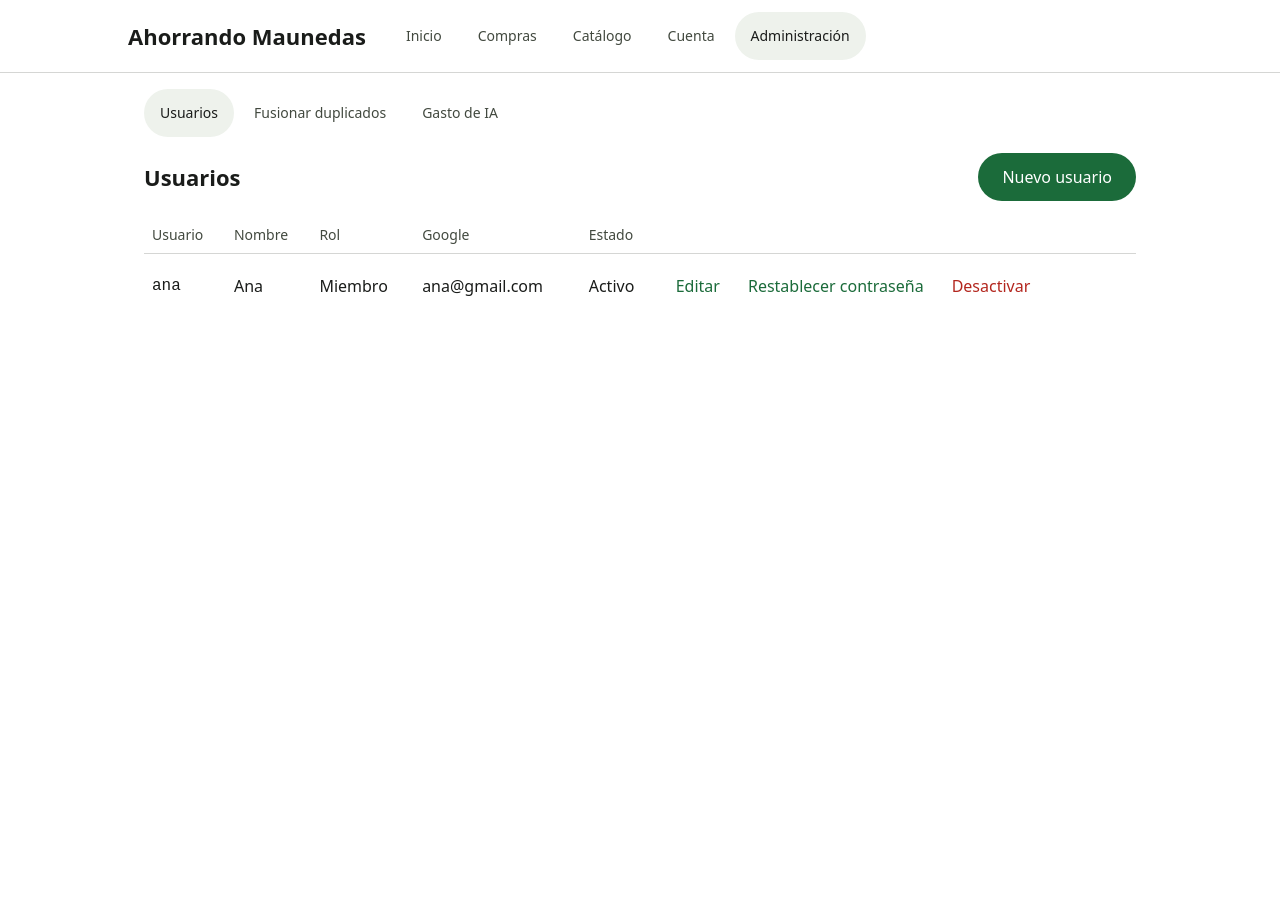
W-11 users › edits only what changed, and warns that removing Google closes that access
Click the button with aria-label "Editar a ana".
click(698, 286)  # box [664,262,732,310]
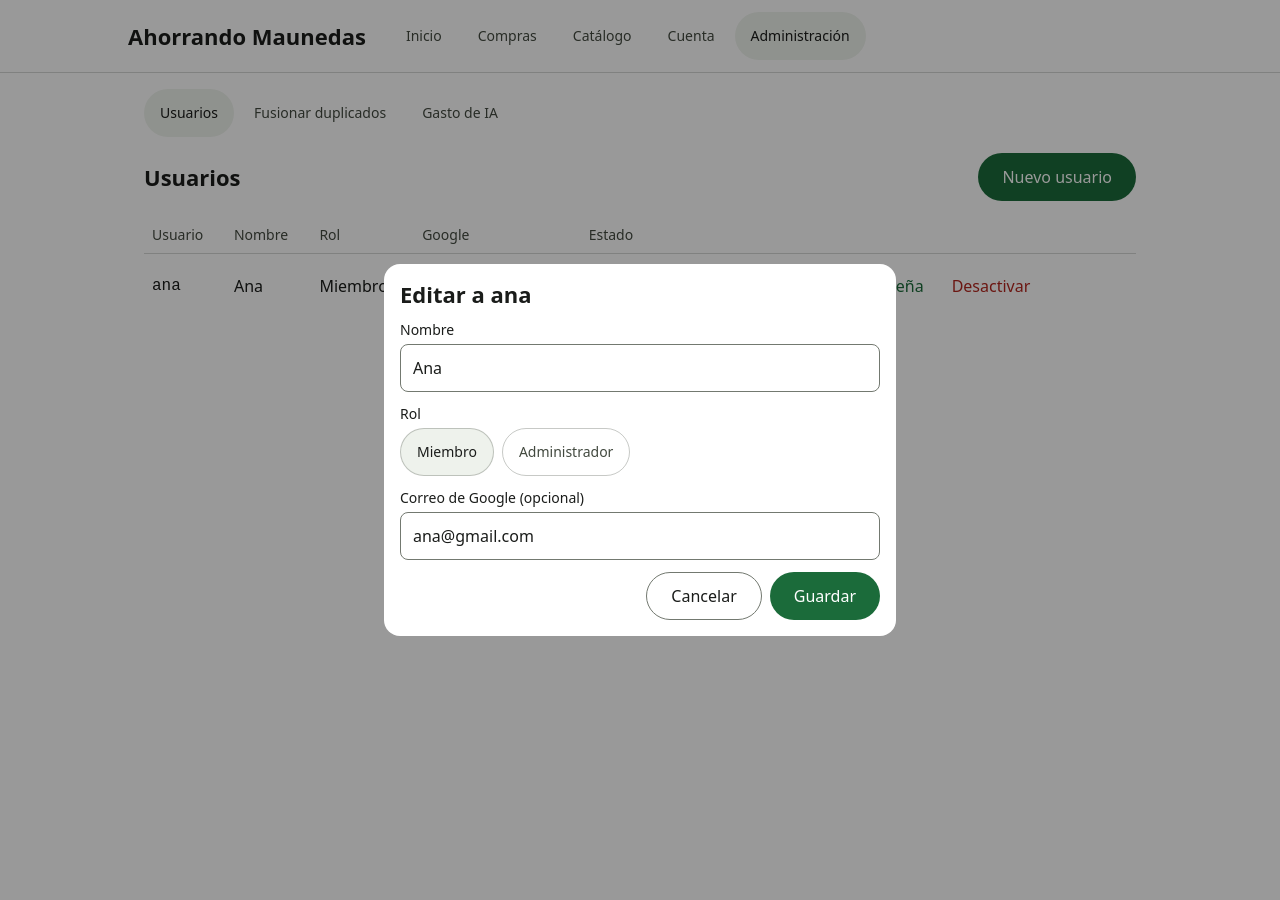
Click the button "Guardar".
click(825, 596)  # box [770,572,880,620]
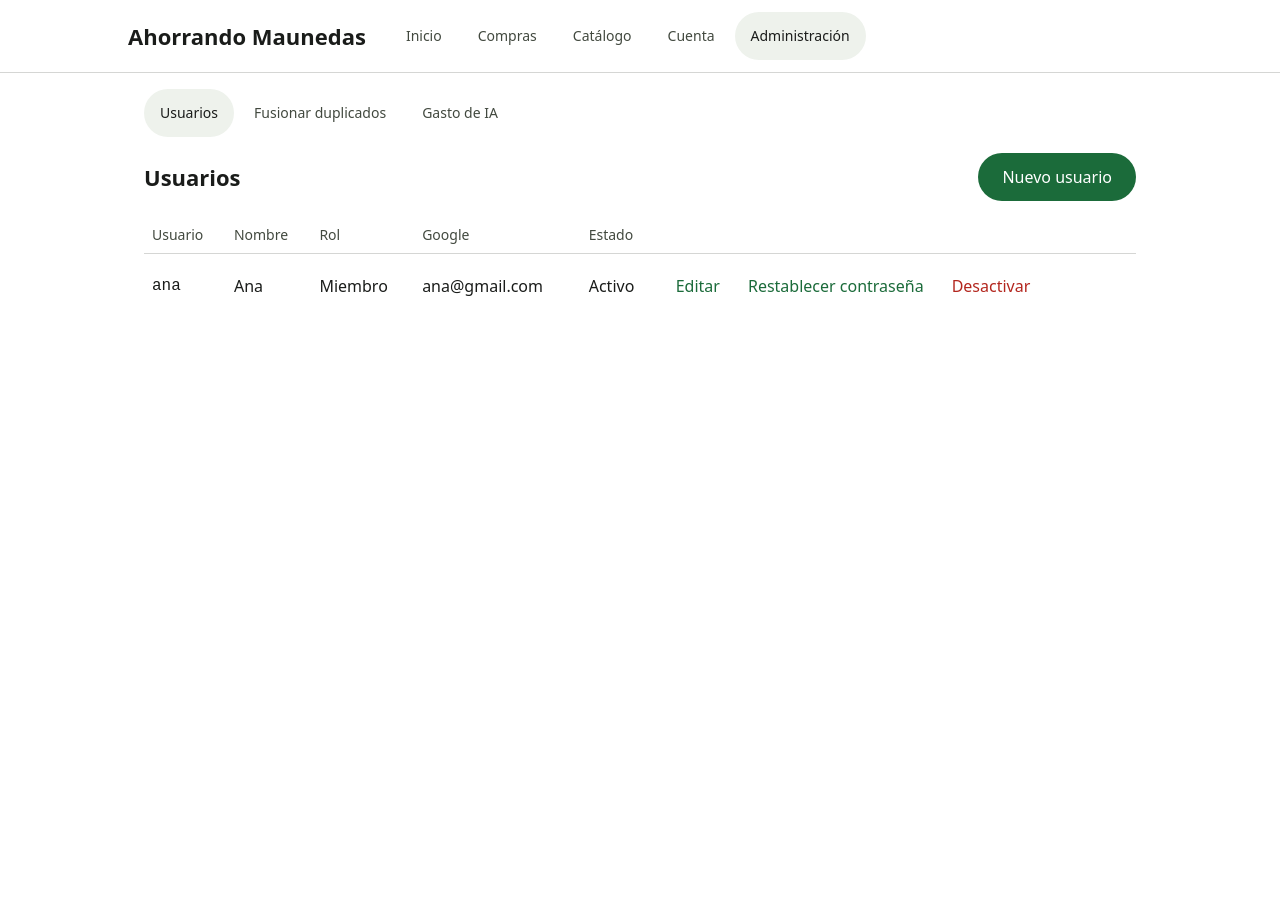
Click the button with aria-label "Editar a ana".
click(698, 286)  # box [664,262,732,310]
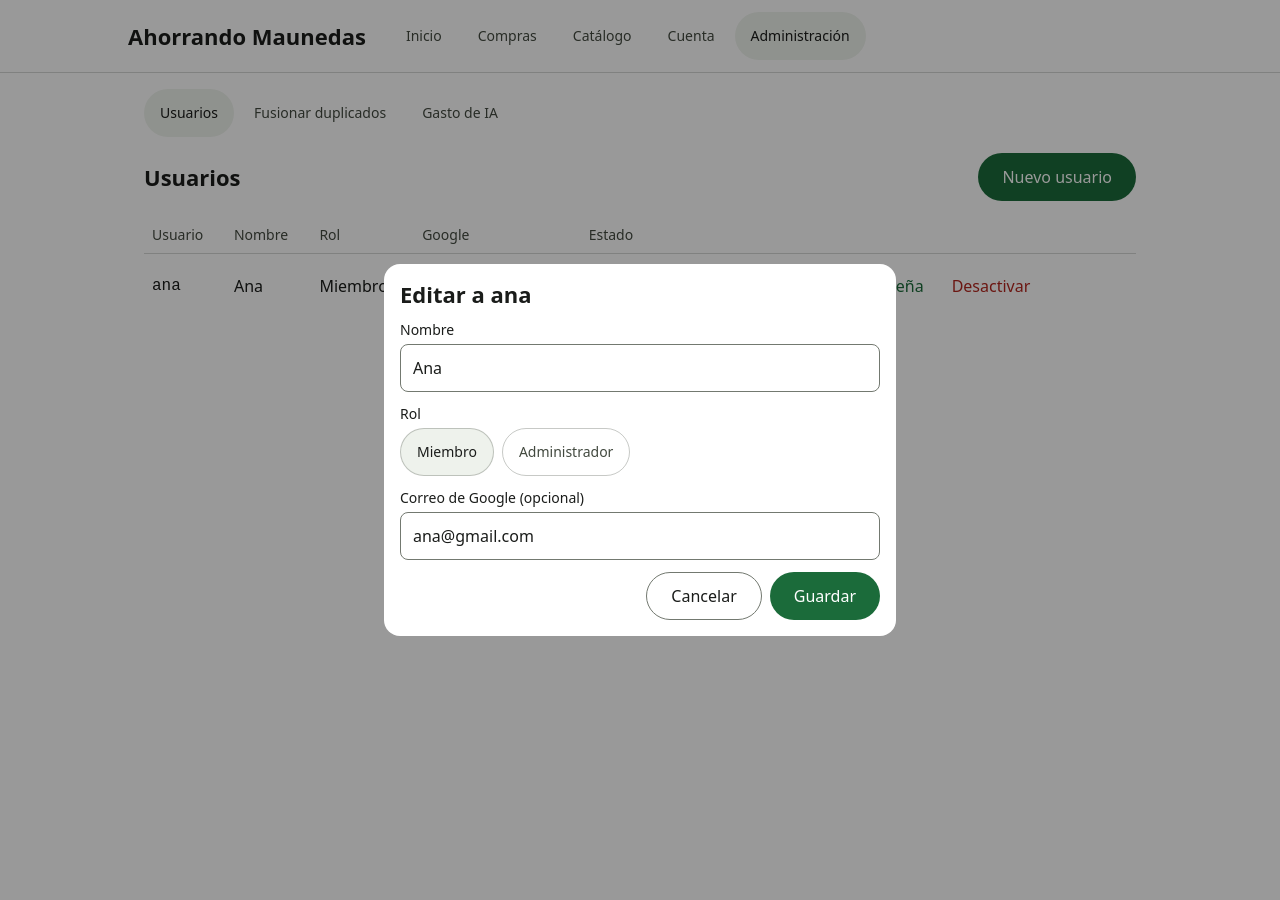
Clear the field labelled "Correo de Google (opcional)" at (640,536), box [400,512,880,560]
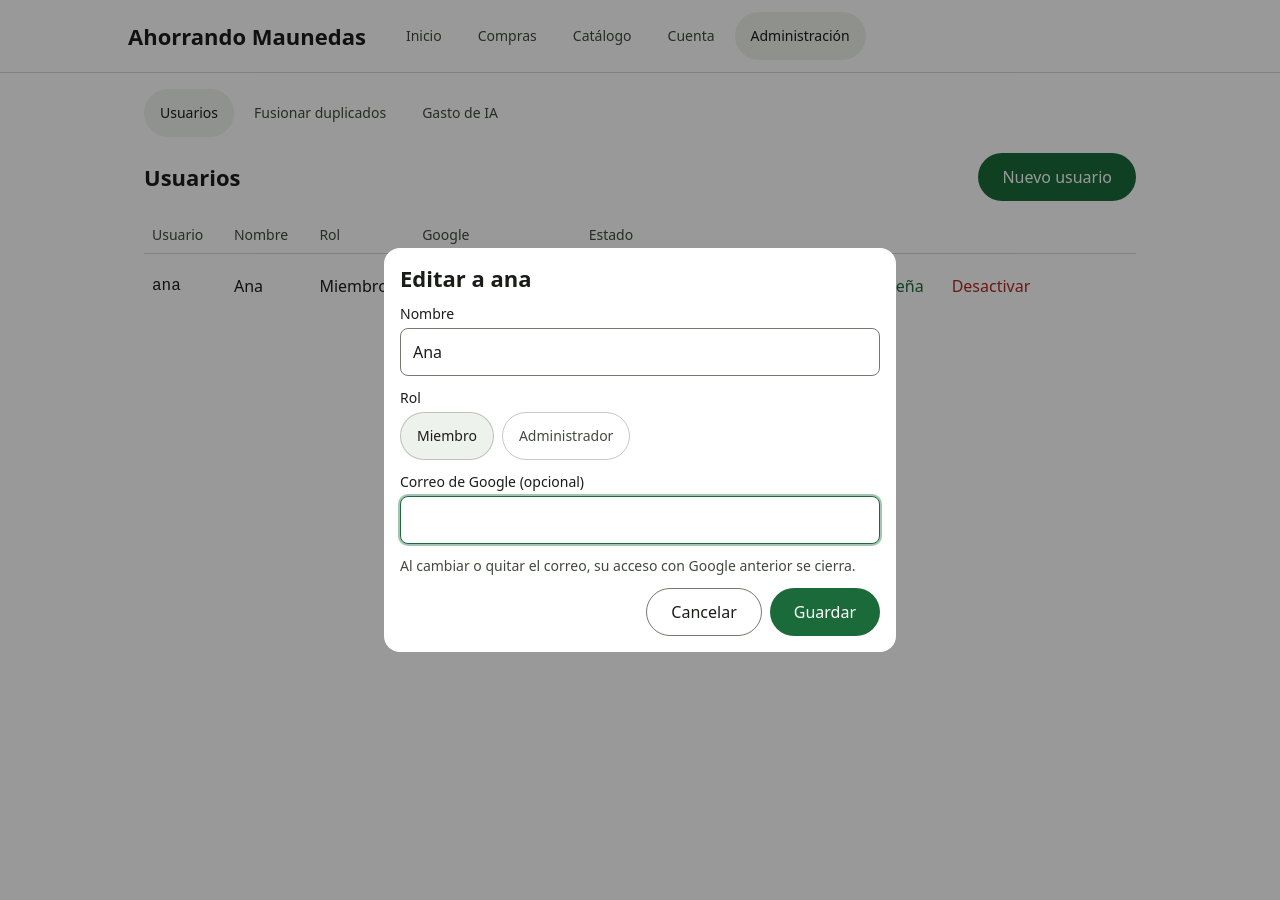
Result: the text "Al cambiar o quitar el correo, su acceso con Google anterior se cierra." is shown at [400,556,880,576]
Click the radio button labelled "Administrador".
click(566, 436)  # box [502,412,630,460]
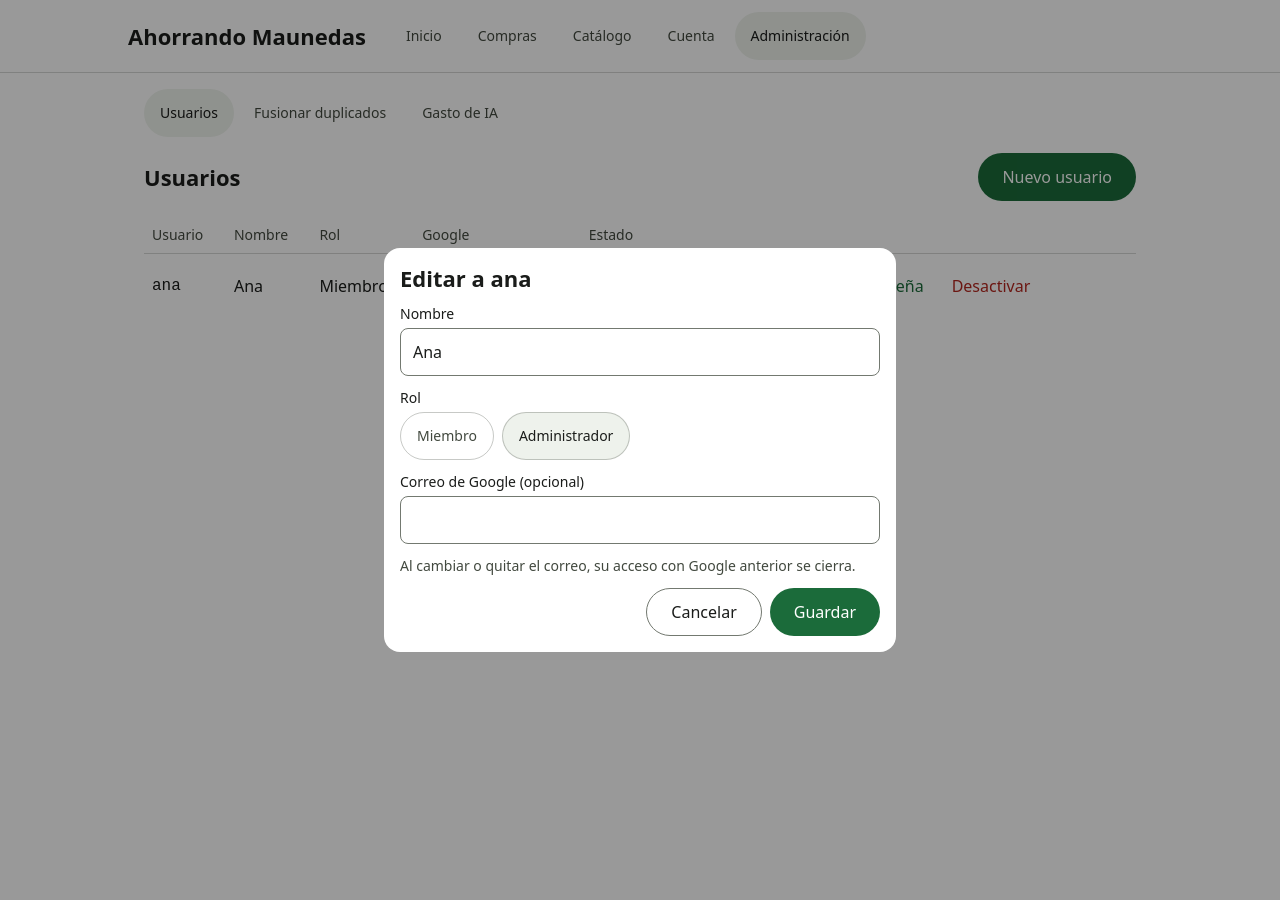
Click the button "Guardar".
click(825, 612)  # box [770,588,880,636]
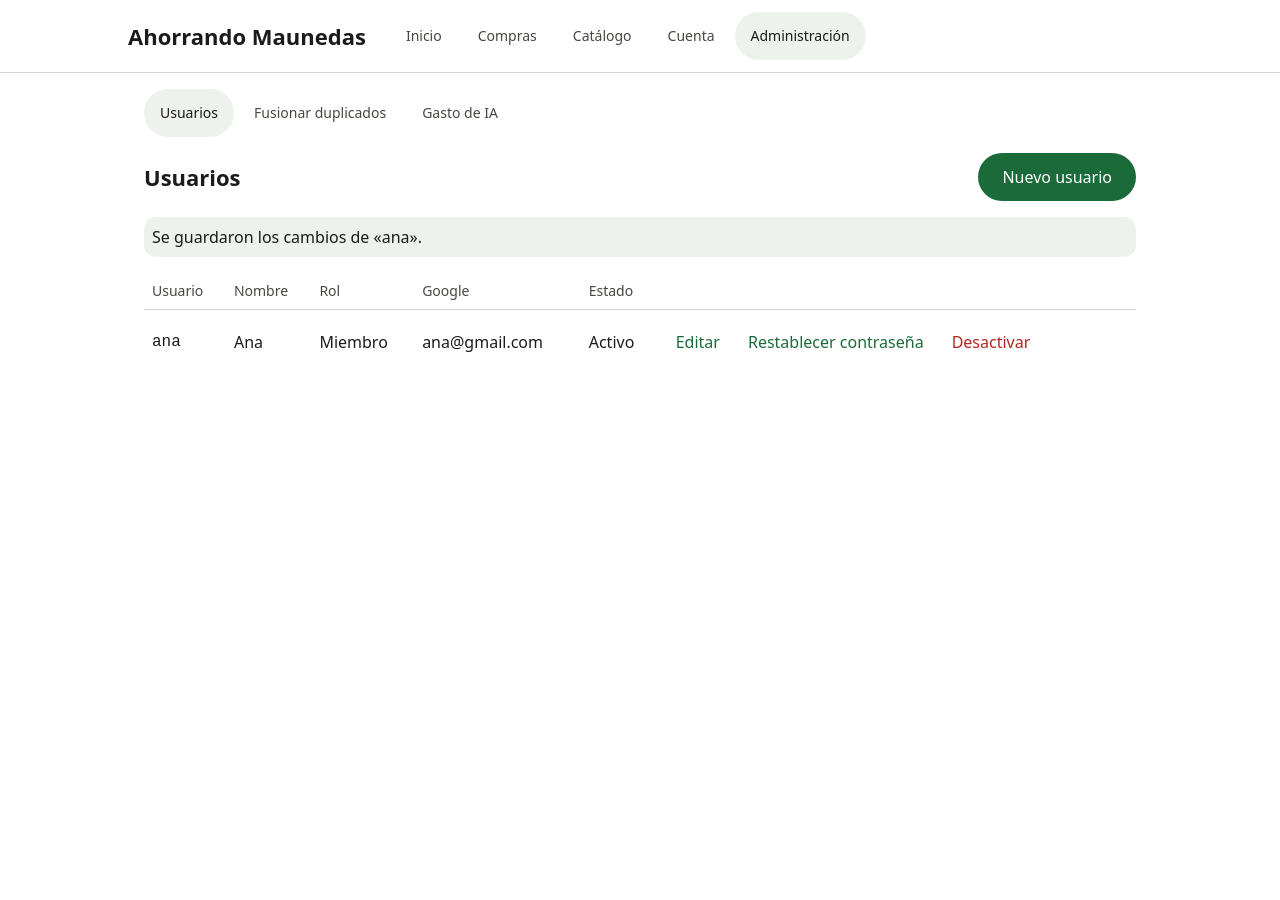
Result: the message reads "Se guardaron los cambios de «ana»." at [152,226,422,248]
